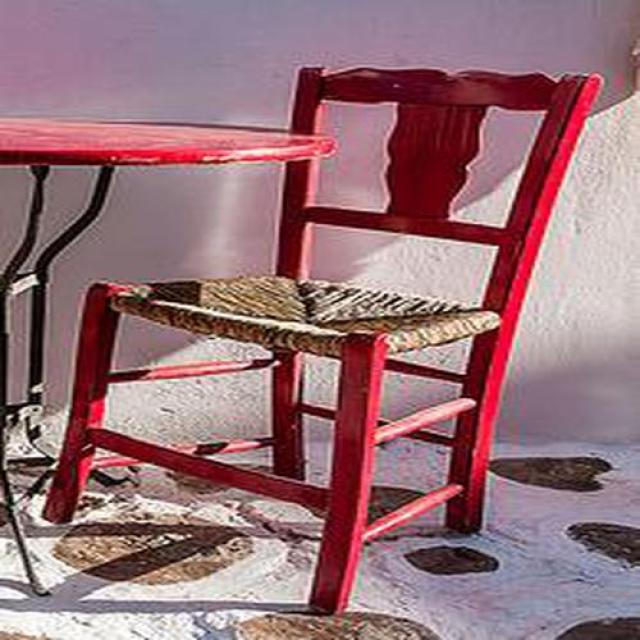chair: (44, 68, 604, 617)
